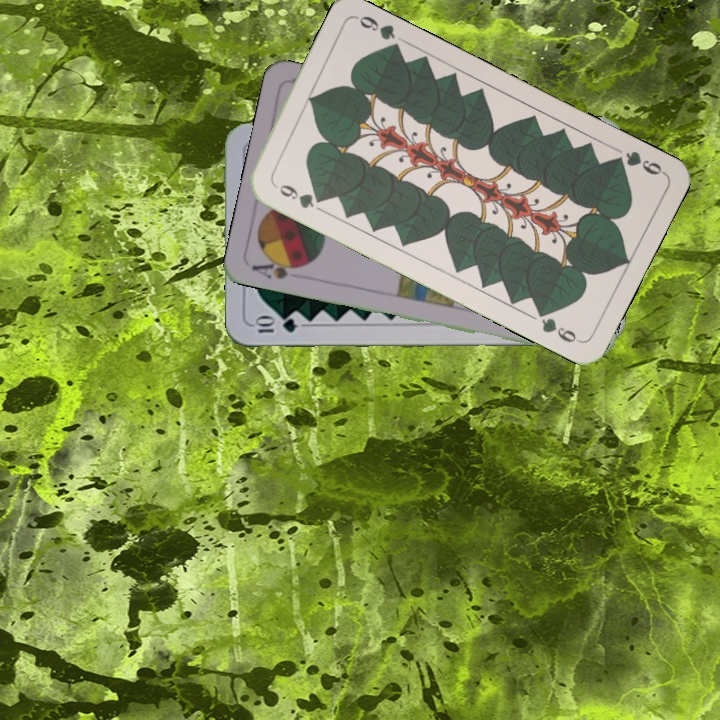G10: (250, 315, 300, 336)
G9: (607, 146, 667, 178), (269, 179, 327, 212)
SA: (247, 253, 308, 282)
